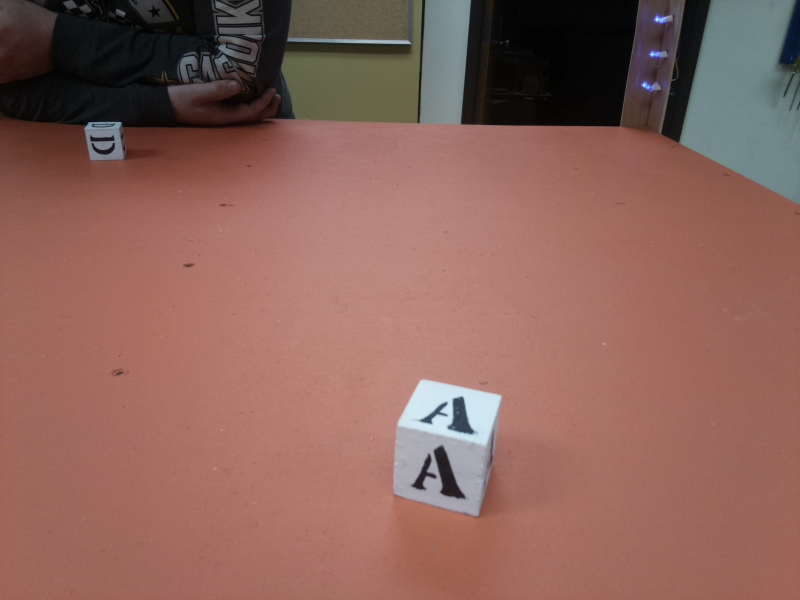blockA: (391, 378, 500, 523)
blockD: (83, 121, 127, 166)
corner: (617, 1, 685, 140)
